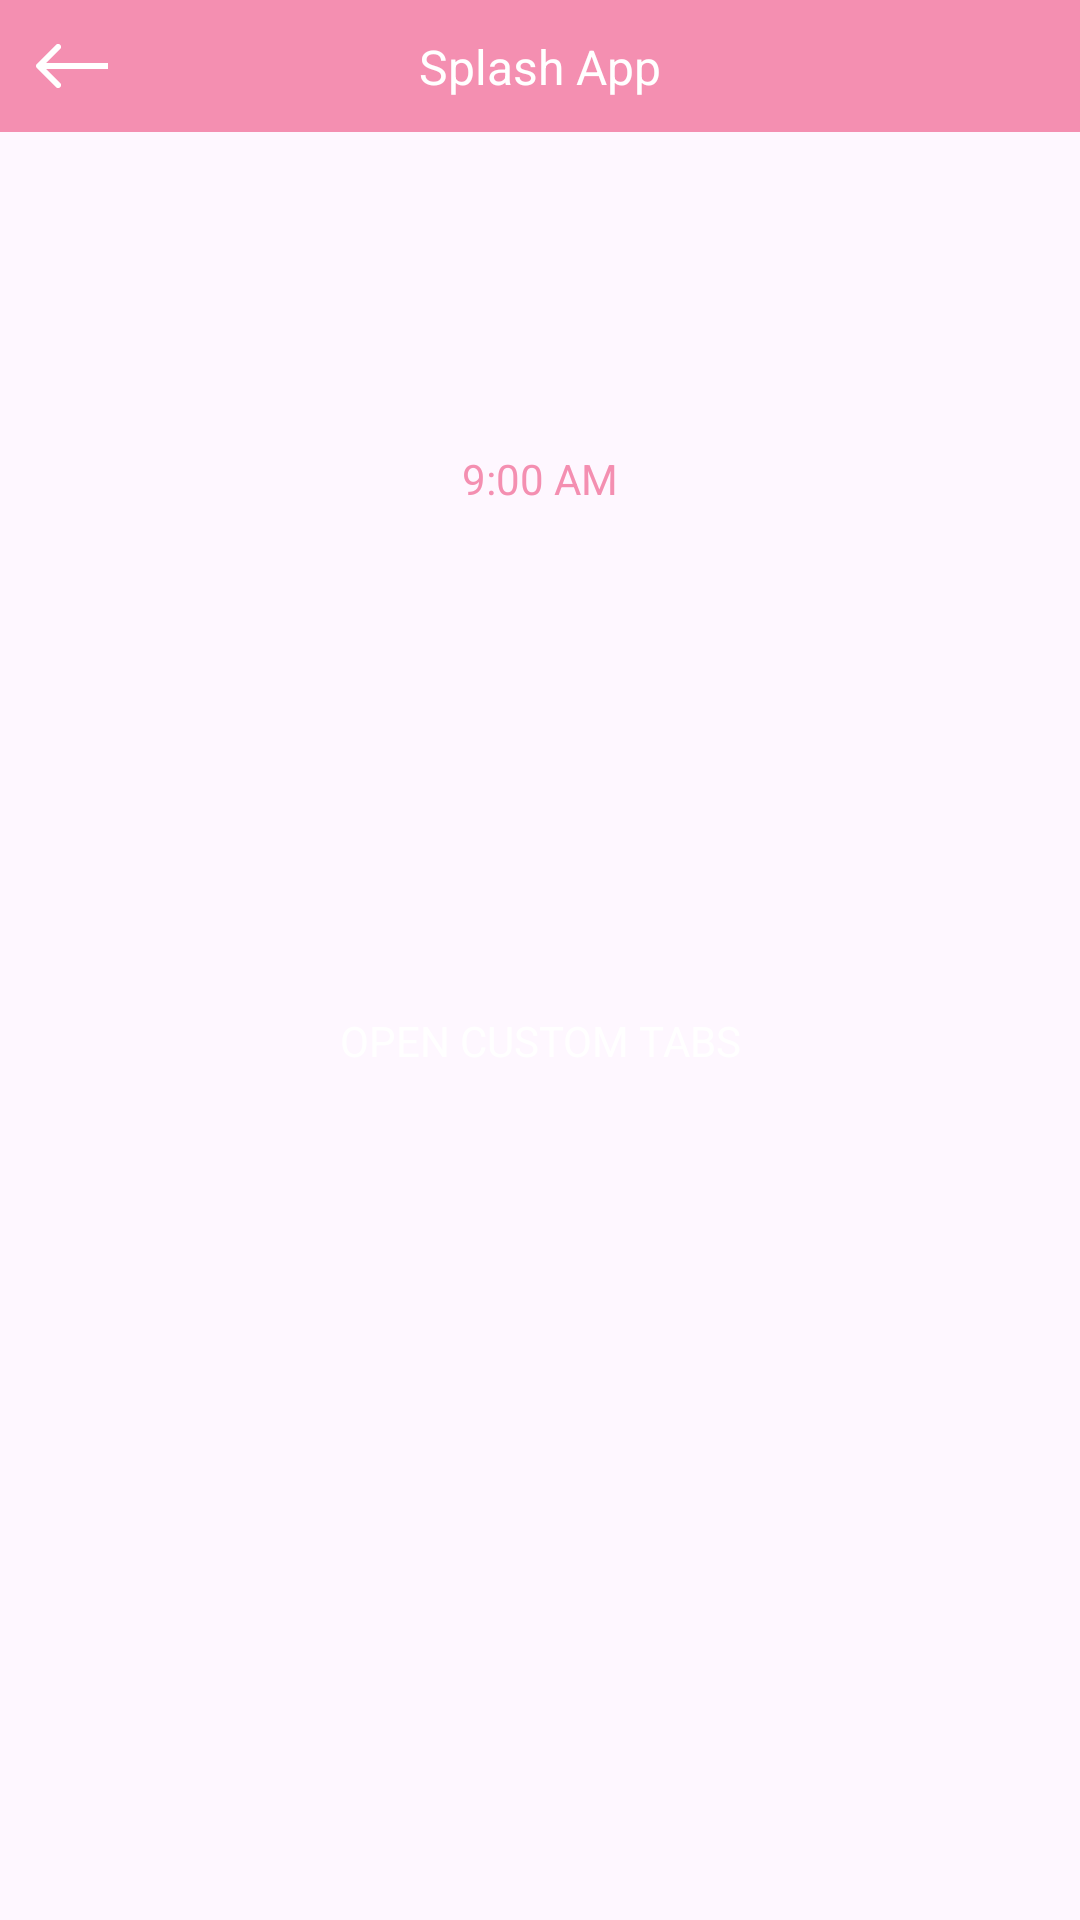

Point at icon controls on the screen. Image size 1080px x 1920px, points as [x,y].
back: [72,66]
